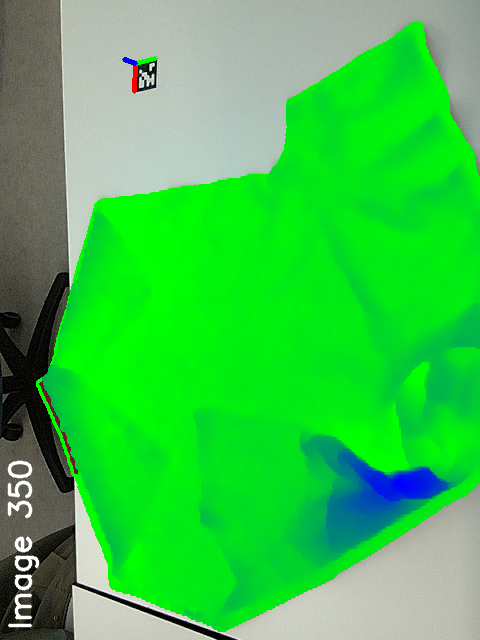V: (120, 260, 169, 321), (186, 395, 232, 443), (138, 430, 181, 481)
